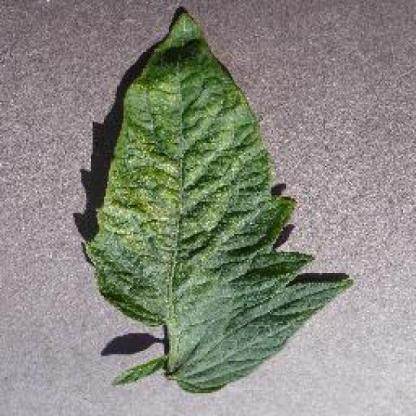Tomato_Spider_Mites: (85, 14, 341, 388)
